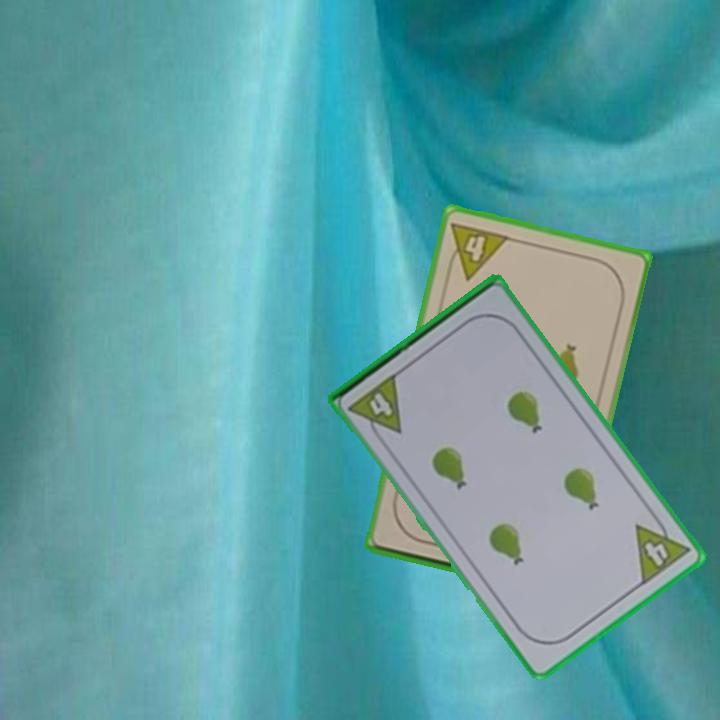4p: (631, 509, 693, 589), (345, 369, 406, 447), (442, 218, 512, 283)
